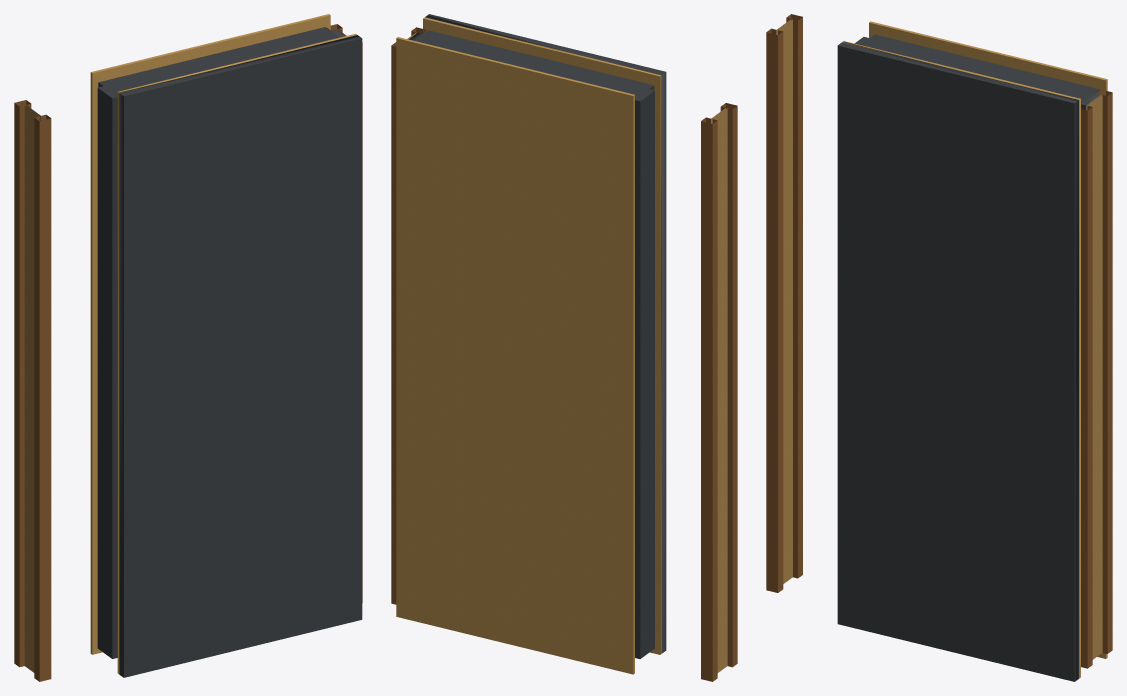
File: perete-polistisip-v3.glb
3 views of the same model, side by side, from view 1: azimuth 30°, elevation 25°; view 2: azimuth 150°, elevation 25°; view 3: azimuth 330°, elevation 25° (orthographic).
Visible parts, largest first — view 1: EPS exterior 40 mm, Miez SIP 220 mm, Grindă I — dreapta.005, OSB 15 mm (exterior).001, Grindă I — dreapta.004, Grindă I — dreapta.002, OSB 15 mm (exterior), Grindă I — dreapta.003; view 2: OSB 15 mm (exterior).001, Miez SIP 220 mm, Grindă I — dreapta.004, OSB 15 mm (exterior), Grindă I — dreapta.005, Grindă I — dreapta.002, EPS exterior 40 mm, Grindă I — dreapta.001; view 3: EPS exterior 40 mm, Grindă I — dreapta.005, Grindă I — dreapta.003, Grindă I — dreapta, Grindă I — dreapta.001, Grindă I — dreapta.004, Grindă I — dreapta.002, Miez SIP 220 mm, OSB 15 mm (exterior).001, OSB 15 mm (exterior).
Boxes of the visible parts, box(x1,y1,x2,y2) form: EPS exterior 40 mm: box(119, 35, 362, 677); Miez SIP 220 mm: box(97, 27, 344, 658); Grindă I — dreapta.005: box(34, 114, 51, 681); OSB 15 mm (exterior).001: box(90, 14, 330, 654); Grindă I — dreapta.004: box(14, 100, 31, 667); Grindă I — dreapta.002: box(24, 105, 40, 672); OSB 15 mm (exterior): box(117, 33, 356, 674); Grindă I — dreapta.003: box(362, 42, 362, 602); OSB 15 mm (exterior).001: box(396, 37, 634, 674); Miez SIP 220 mm: box(409, 30, 654, 658); Grindă I — dreapta.004: box(701, 117, 717, 681); OSB 15 mm (exterior): box(423, 17, 661, 654); Grindă I — dreapta.005: box(720, 103, 737, 667); Grindă I — dreapta.002: box(711, 108, 727, 672); EPS exterior 40 mm: box(425, 14, 666, 653); Grindă I — dreapta.001: box(391, 42, 396, 604); EPS exterior 40 mm: box(837, 42, 1079, 681); Grindă I — dreapta.005: box(766, 28, 783, 592); Grindă I — dreapta.003: box(1081, 104, 1092, 668); Grindă I — dreapta: box(1086, 95, 1102, 659); Grindă I — dreapta.001: box(1096, 90, 1112, 653); Grindă I — dreapta.004: box(786, 14, 802, 578); Grindă I — dreapta.002: box(776, 19, 792, 583); Miez SIP 220 mm: box(854, 34, 1100, 110); OSB 15 mm (exterior).001: box(869, 21, 1107, 658); OSB 15 mm (exterior): box(842, 41, 1080, 678).
Size of the model in its own units: 1.63 by 2.8 by 0.2899.
4 materials, 4 textured.
